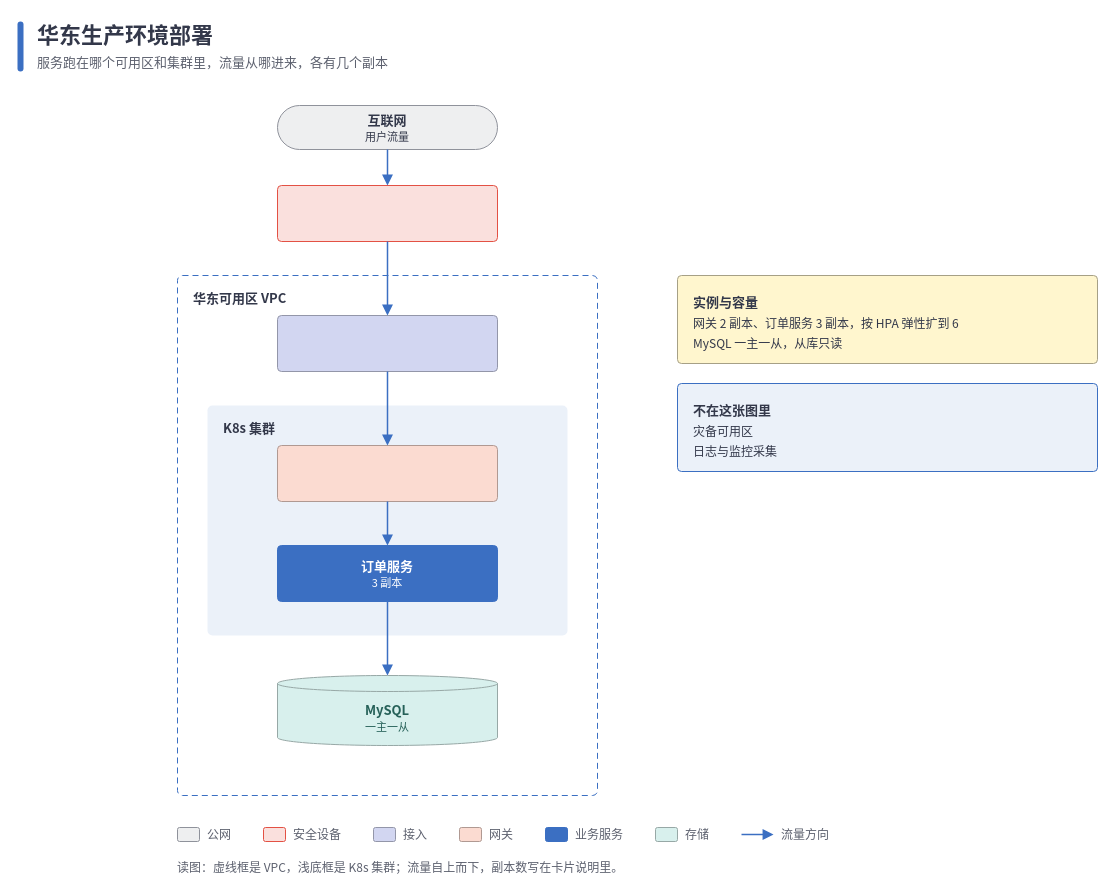
Image size: 1115x894. Some labels were removed from this diagram. Here are the shapes that lost their labels. From the top down, the centre of each, then its label:
At [387,213]: "WAF 边界防护".
At [387,343]: "负载均衡 SLB 公网入口".
At [387,473]: "网关 2 副本".
